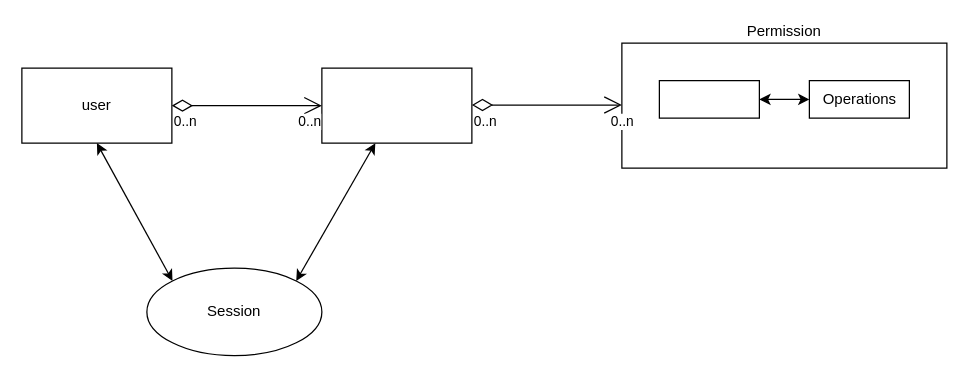
Image size: 969x378. Some labels were removed from this diagram. The shapes that lost their labels are listed below. From the top down, each one's centre as x and y in pixels, then its label:
the point at 396,105: role
the point at 708,98: Object
